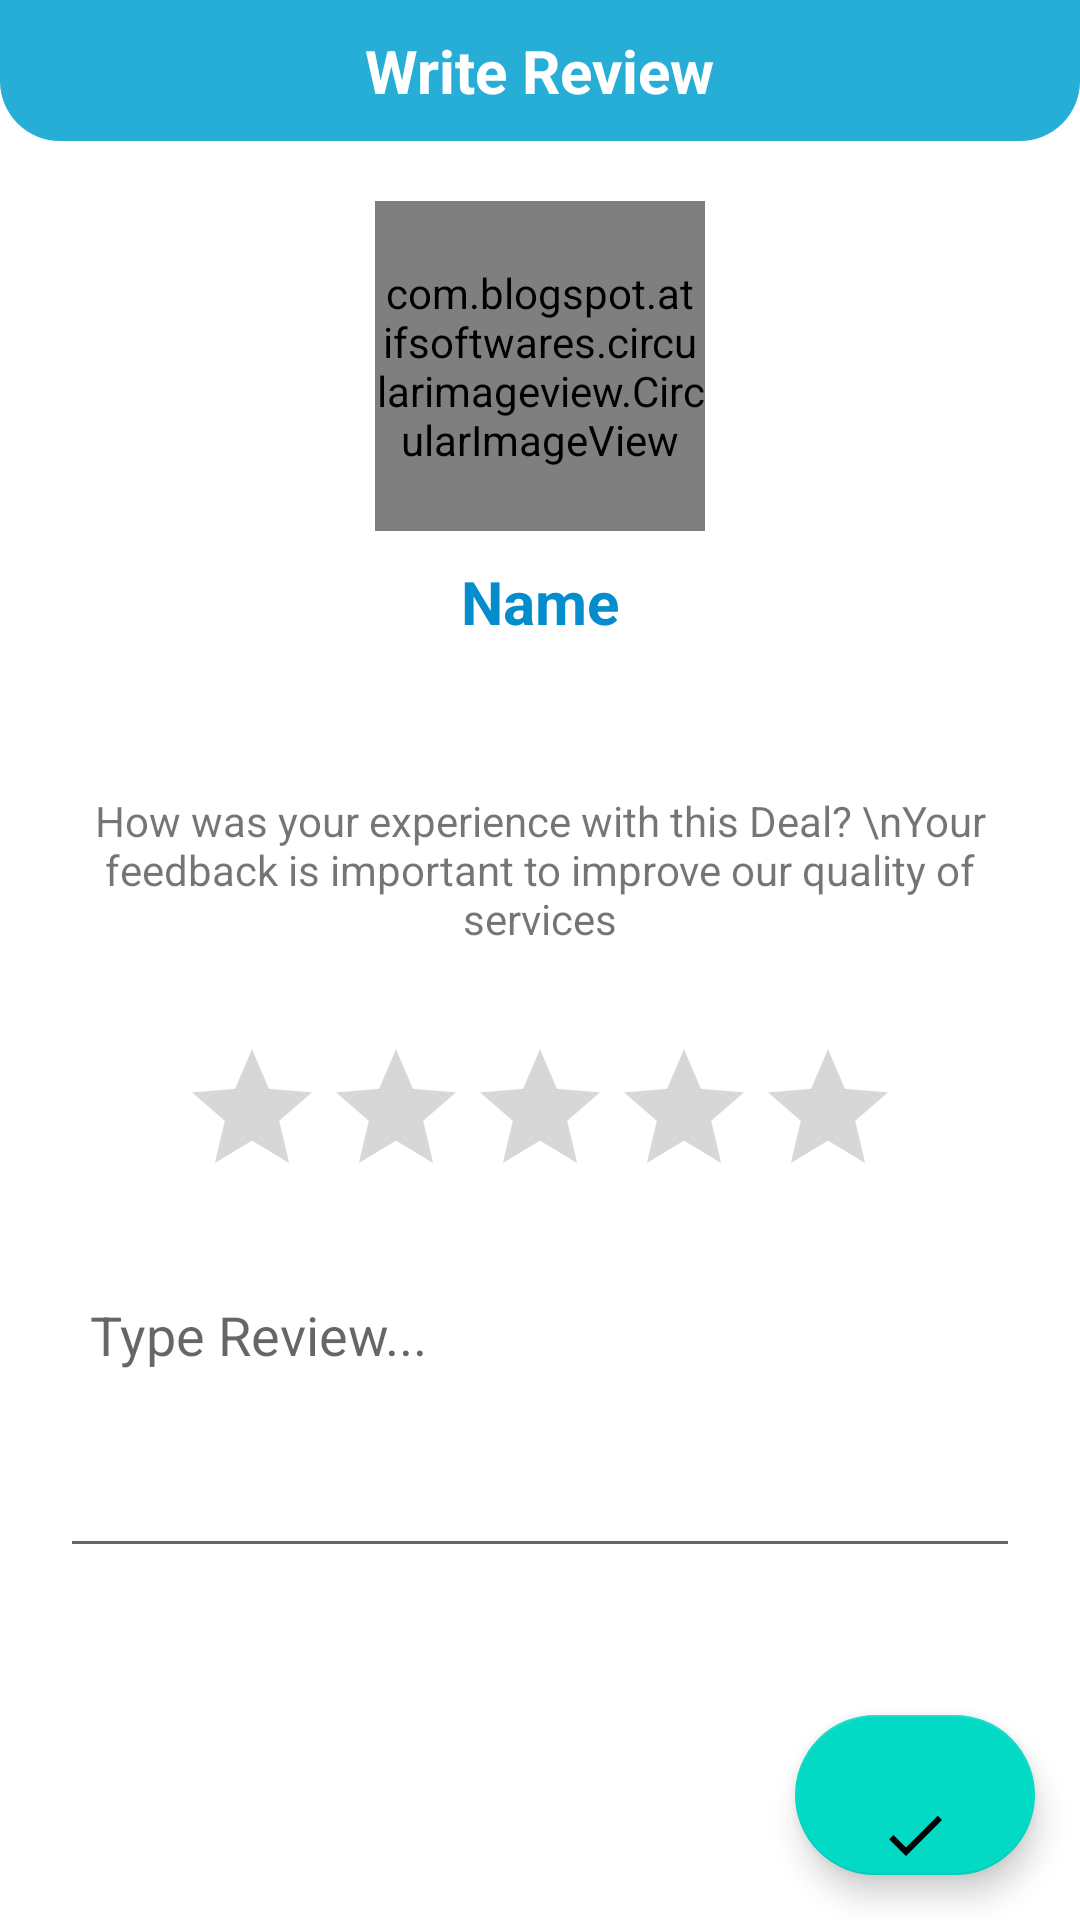

Icons on this 1080w x 1920h Android screen, each with its box as rect(x1, y1, x2, y2):
done: rect(795, 1715, 1035, 1875)
